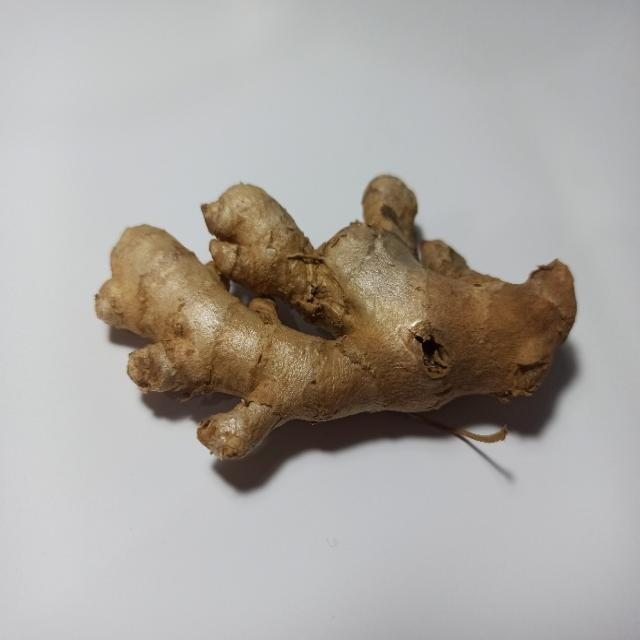ginger: (98, 173, 576, 464)
